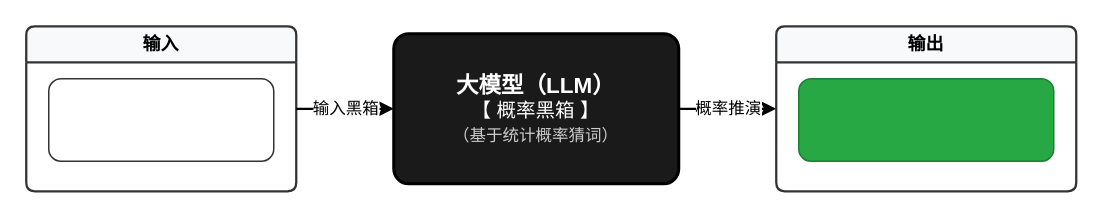
Some shapes in this 1104 by 219 pixel diagram are drawn without their labels. Each missing label, with the centre of its shape:
"大概率正确的内容 (单次预测回复结果)" goes at [925,119].
"用户输入 (Prompt / 提问)" goes at [160,119].
